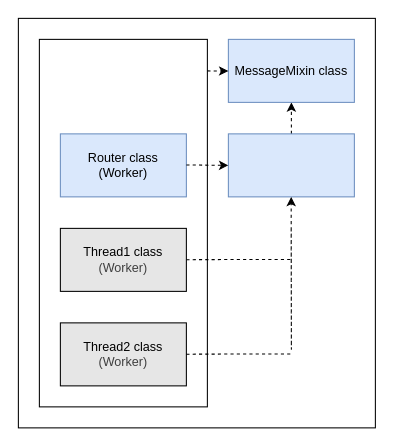
This 394x446 diagram has some shape labels left out. Here are the shapes that lost their labels. From the top down, the box of each, then its label:
(227, 133, 354, 197): Worker class (QThread, MessageMixin)
(38, 38, 207, 407): MainWindow class (QWidget,MessageMixin)
